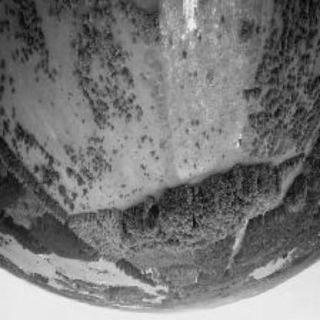other: (158, 5, 216, 47)
